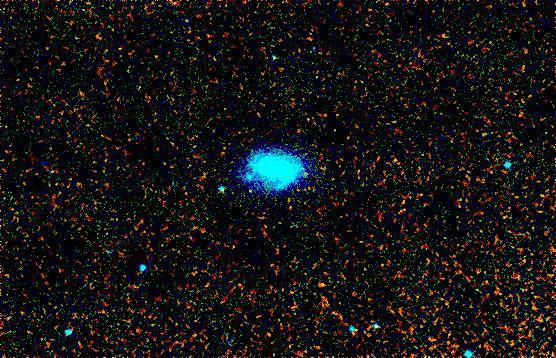star: (289, 162, 319, 192)
